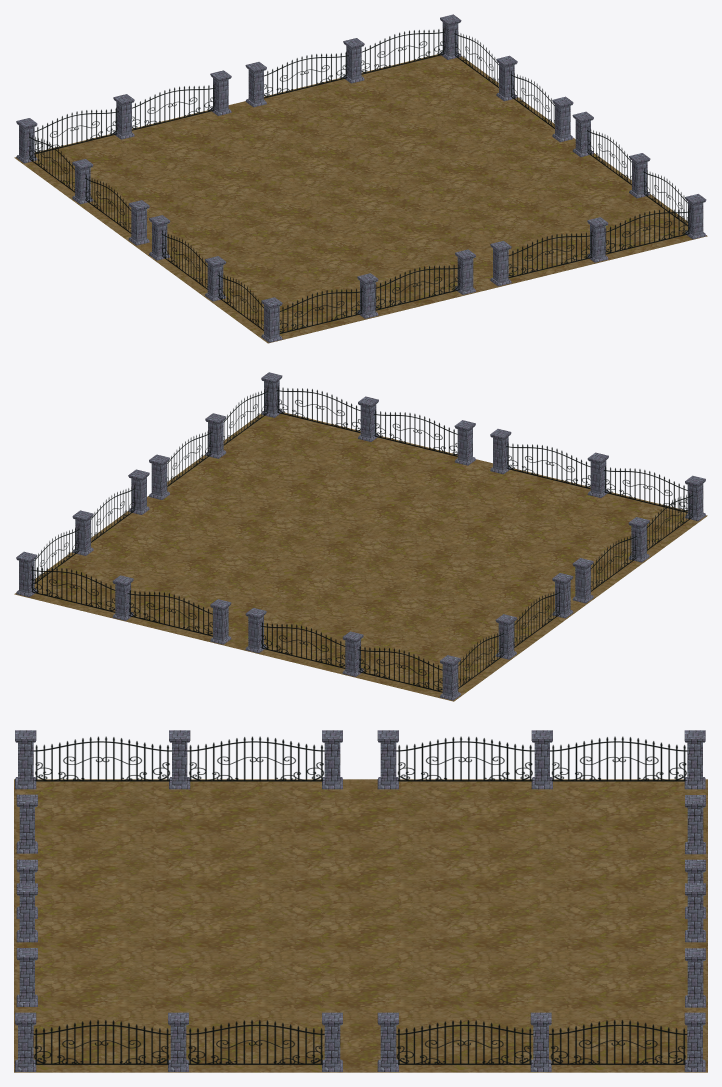
The model's file is ground.glb.
3 renders of one model, top to bottom at view 1: azimuth 30°, elevation 25°; view 2: azimuth 150°, elevation 25°; view 3: azimuth 270°, elevation 25°, orthographic. The views are drawn at different scales.
Visible parts, largest first — view 1: ground; view 2: ground; view 3: ground.
Boxes of the visible parts, x1=… form: ground: x1=14, y1=14, x2=707, y2=343; ground: x1=14, y1=372, x2=707, y2=701; ground: x1=14, y1=730, x2=707, y2=1072.
Size of what is drawn, in the model's own units: 64 by 5.15 by 64.
3 materials, 3 textured.
